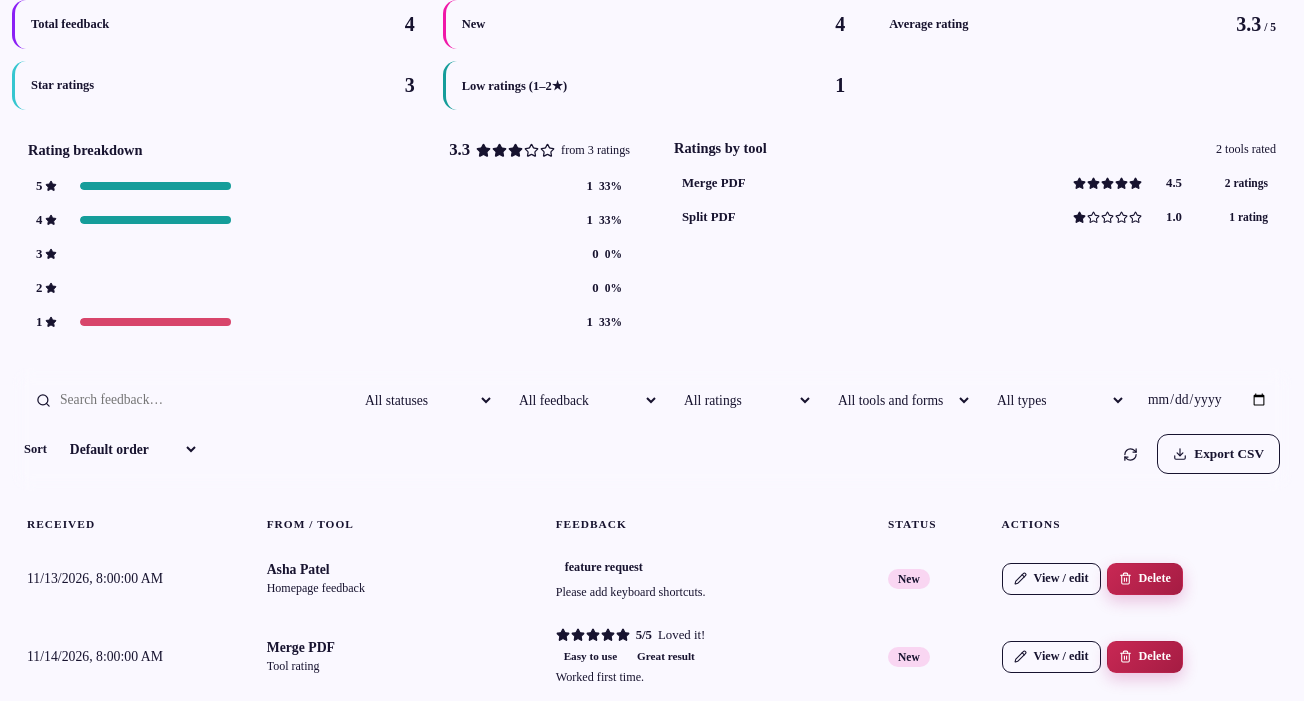
Scenario: admin feedback inbox with ratings › filters by source, star rating and tool
Expected: the text "Asha Patel" is shown, [267,562,330,577]
Select "Tool ratings" in the dropdown named "Filter by feedback source" at [581, 400], box [503,380,659,420]
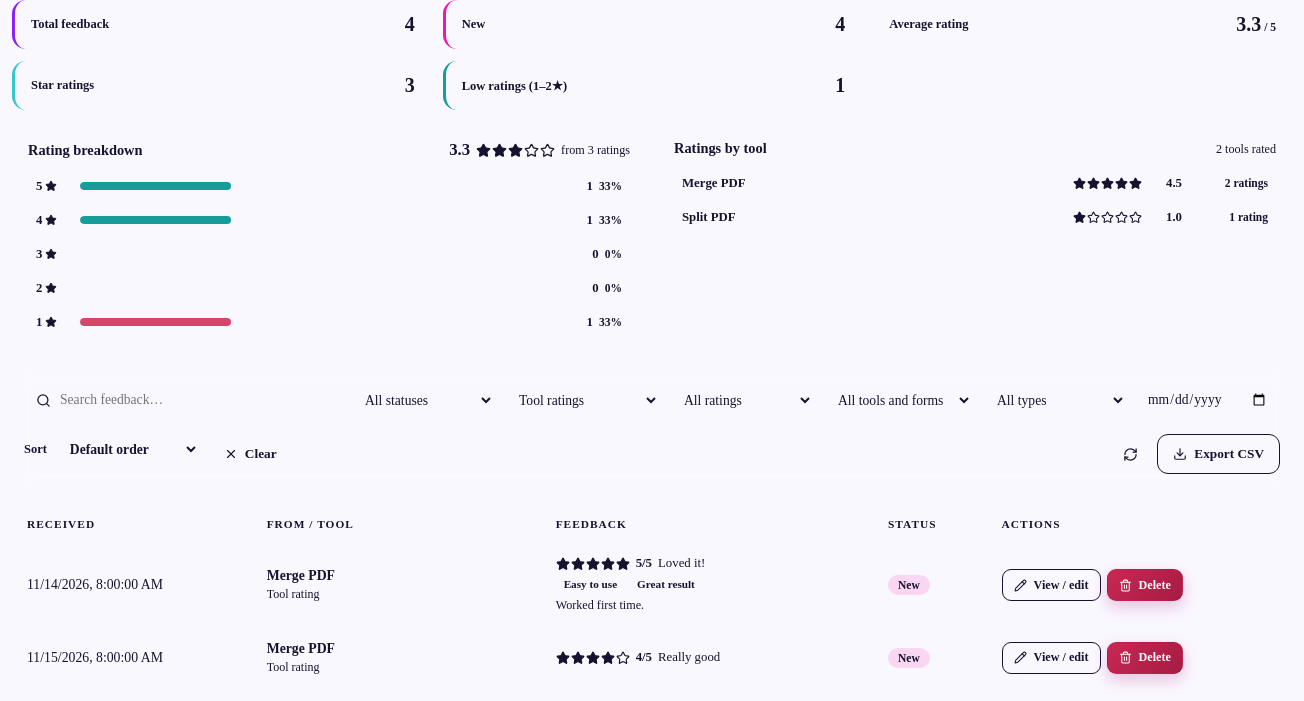
Now the text "Asha Patel" is gone
Now the text "Tool rating" is shown 3 times
Select "Low (1–2 stars)" in the dropdown named "Filter by star rating" at [740, 400], box [668,380,813,420]
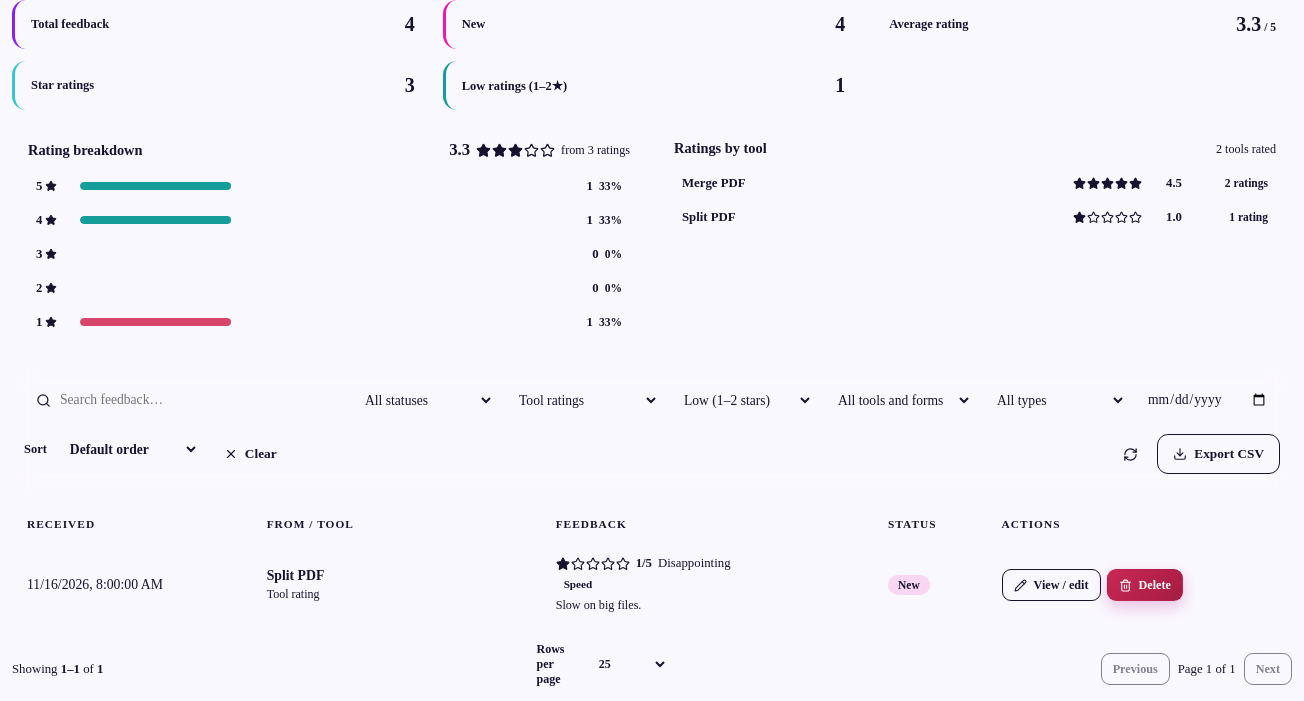
Expected: the text "Slow on big files." is shown, [556,597,641,615]
Now the text "Tool rating" is shown once, box [267,587,320,601]
Select "All ratings" in the dropdown named "Filter by star rating" at [740, 400], box [668,380,813,420]
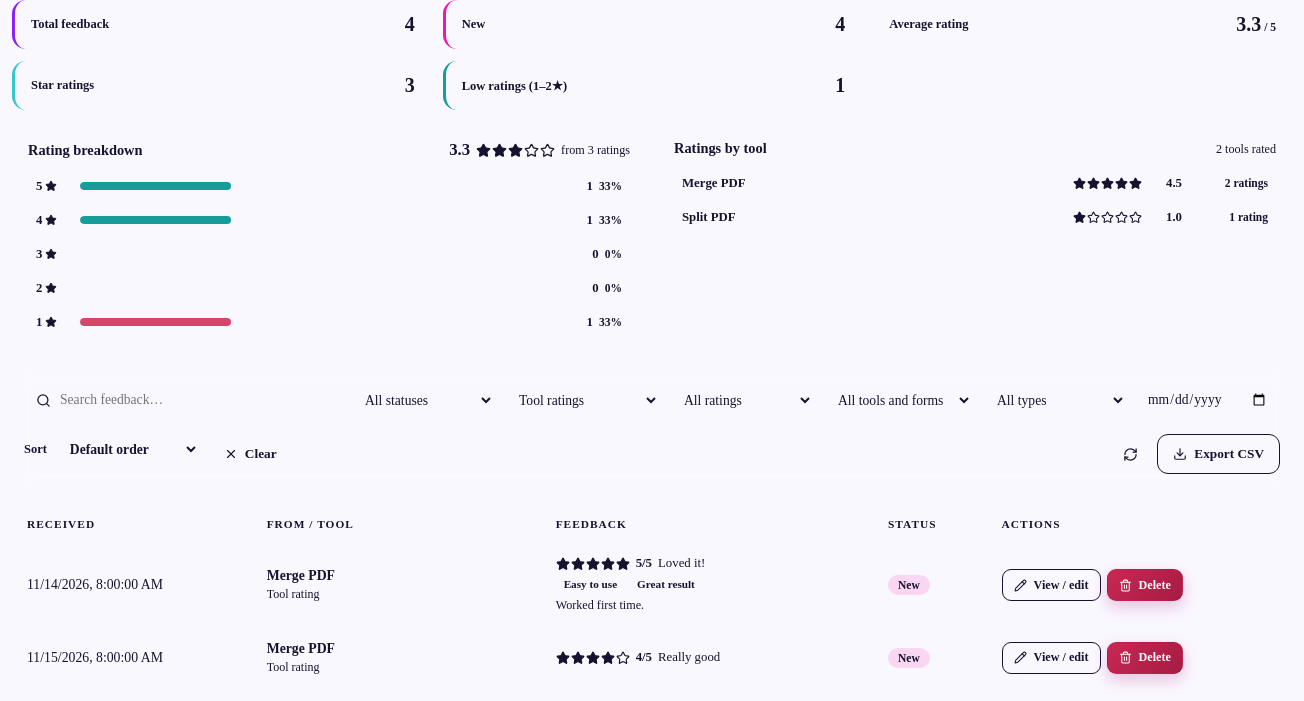
Click the button with aria-label "Merge PDF: 4.5 out of 5 from 2 ratings. Show only this tool.".
click(714, 182)  # box [674,167,1276,199]
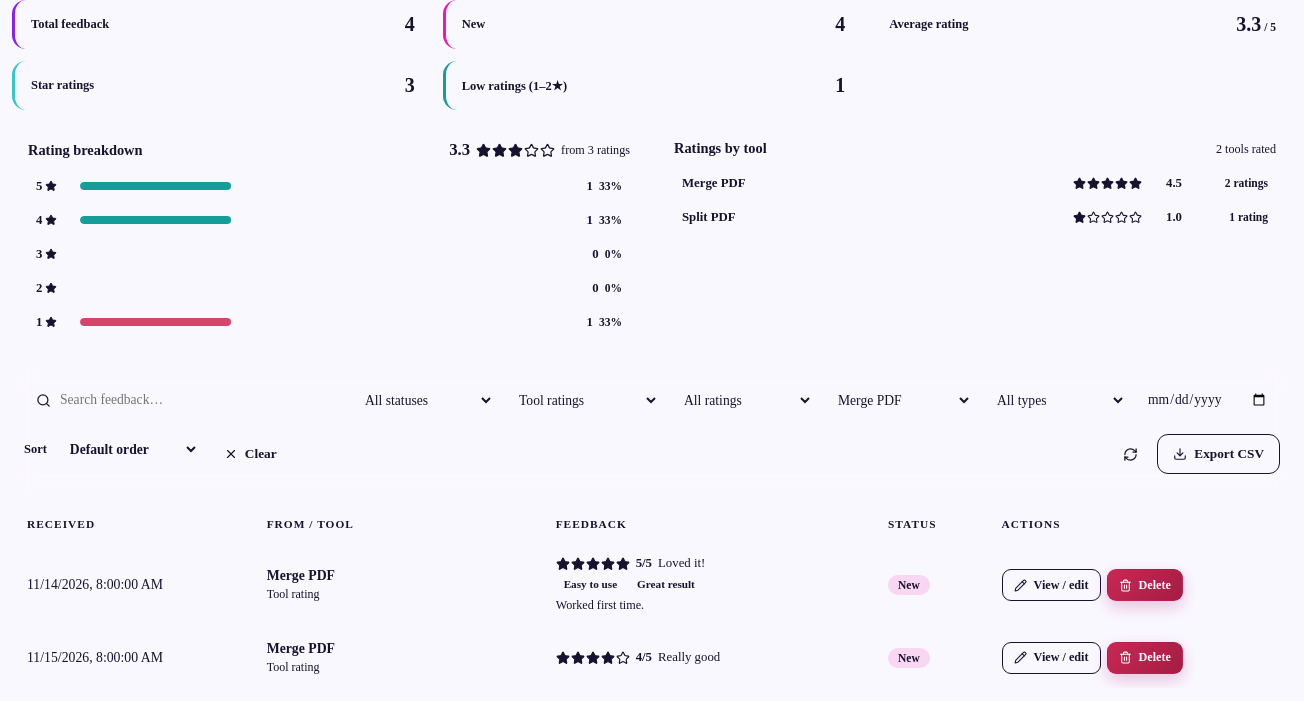
Now the text "Tool rating" is shown 2 times, box [267,587,320,601]; [267,660,320,674]
Now the dropdown named "Filter by tool" shows "Merge PDF", box [822,380,972,420]
